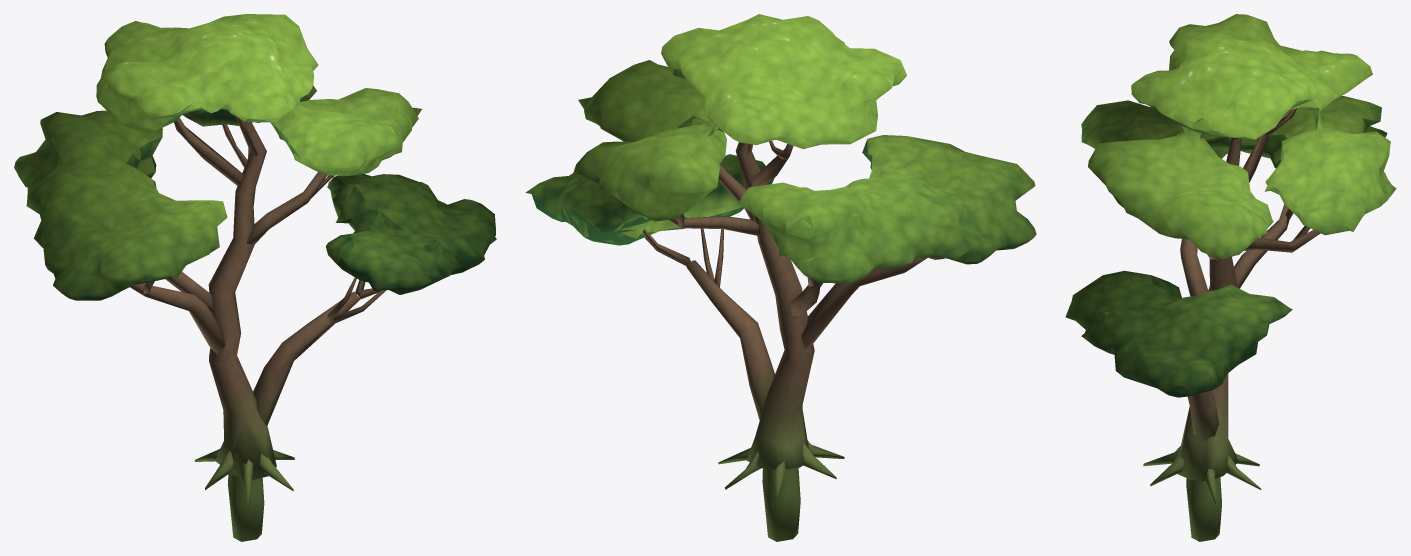
The model's file is tree_alder.glb.
3 views of the same model, side by side, from view 1: azimuth 30°, elevation 25°; view 2: azimuth 150°, elevation 25°; view 3: azimuth 270°, elevation 25° (orthographic). The views are drawn at different scales.
Parts seen in each view (by area): view 1: Tree_Foliage, Tree_Wood; view 2: Tree_Foliage, Tree_Wood; view 3: Tree_Foliage, Tree_Wood.
Part boxes in pixels (left/top/right/bottom): Tree_Foliage: left=14, top=14, right=496, bottom=300; Tree_Wood: left=130, top=116, right=385, bottom=541; Tree_Foliage: left=525, top=14, right=1036, bottom=283; Tree_Wood: left=643, top=141, right=944, bottom=541; Tree_Foliage: left=1065, top=14, right=1396, bottom=397; Tree_Wood: left=1143, top=108, right=1320, bottom=541.
Size of the model in its own units: 3.73 by 3.88 by 2.39.
2 materials, 2 textured.
